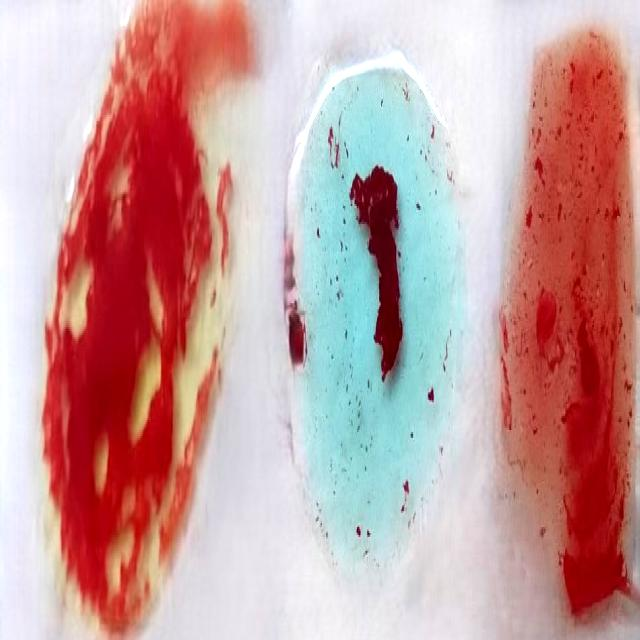A: (292, 64, 448, 583)
B: (55, 40, 204, 624)
D: (508, 40, 629, 640)
